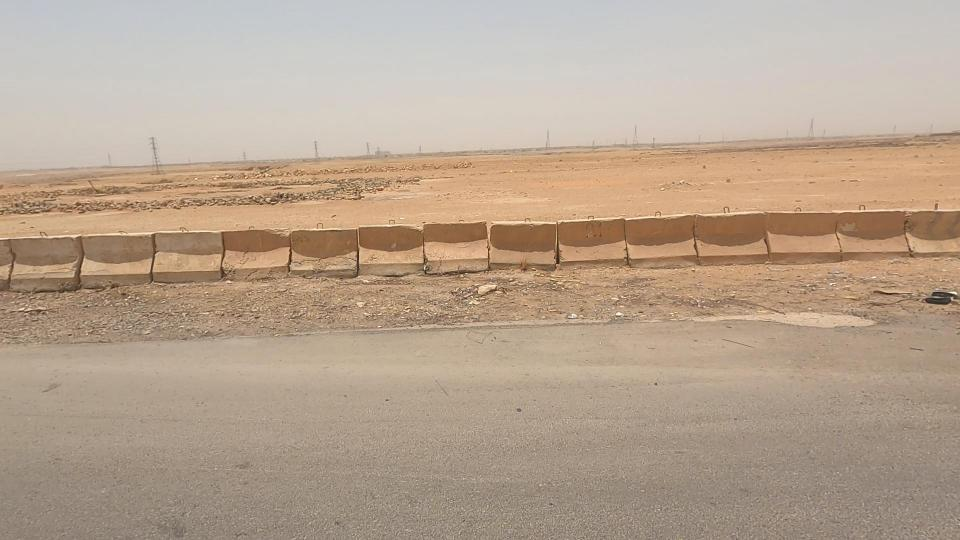GARBAGE: (878, 256, 960, 332)
